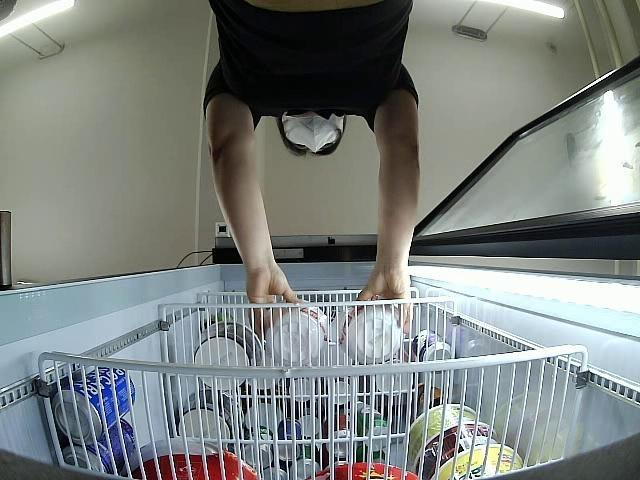09_yukGaeJang: (333, 294, 402, 362), (264, 300, 331, 365)
